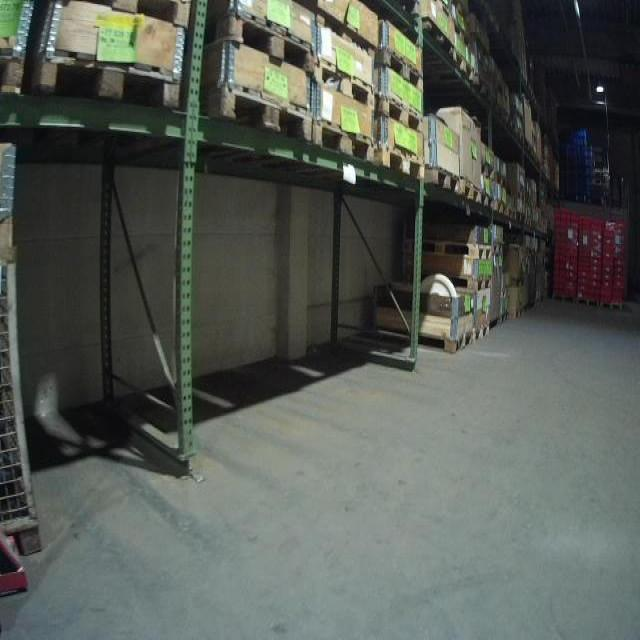pallet: (32, 49, 183, 109), (205, 6, 316, 75), (201, 80, 313, 144), (314, 57, 377, 112), (313, 7, 375, 59), (374, 322, 474, 354), (312, 118, 375, 167), (89, 0, 195, 28), (405, 235, 492, 263), (378, 44, 425, 93), (377, 91, 425, 134), (375, 140, 427, 178), (420, 15, 455, 58), (426, 164, 462, 194), (452, 272, 492, 292), (454, 48, 475, 83), (459, 176, 482, 203), (474, 75, 494, 102), (473, 322, 489, 344), (550, 293, 578, 305), (576, 296, 599, 309), (481, 161, 495, 181), (479, 193, 494, 210), (494, 171, 508, 189), (599, 301, 624, 311), (493, 200, 507, 215), (511, 307, 524, 319), (514, 190, 525, 202), (491, 244, 503, 254), (500, 311, 509, 324)
stillage: (1, 228, 41, 581)
